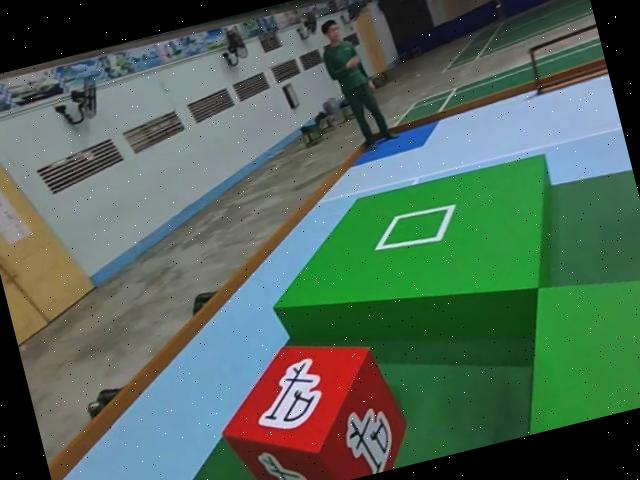R2 Real: (205, 320, 415, 480)
